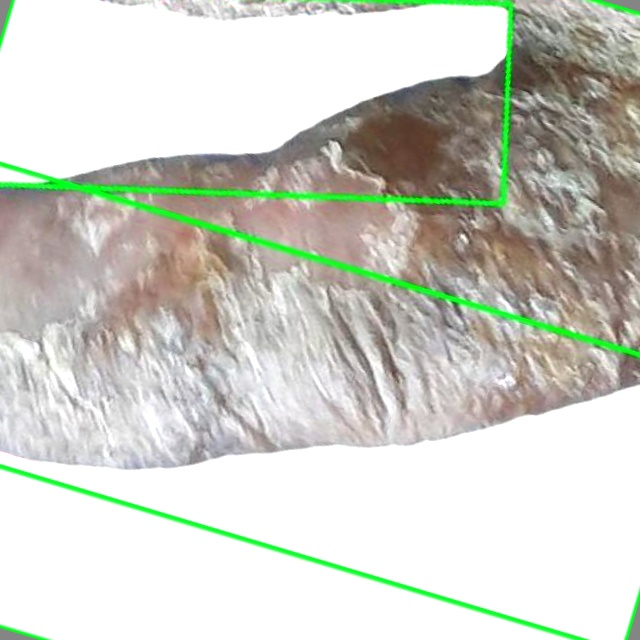Eczema: (0, 0, 639, 639), (0, 164, 639, 639), (0, 0, 511, 204)
